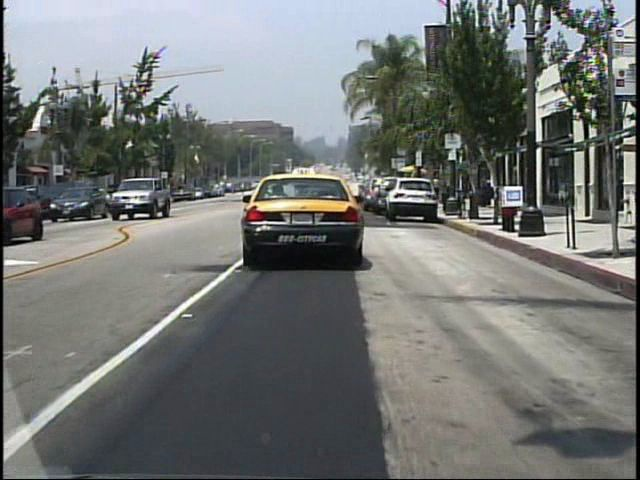person: (429, 176, 440, 203)
